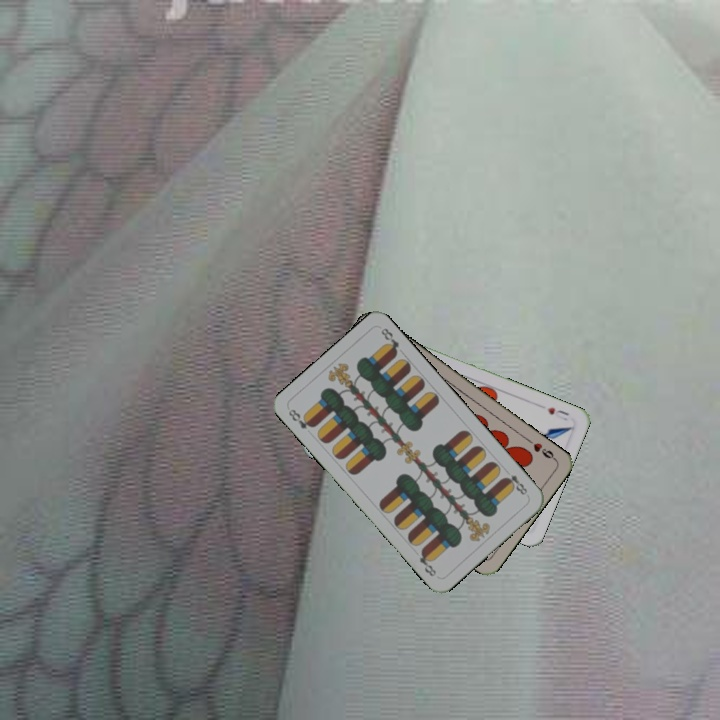E8: (284, 405, 317, 432), (499, 471, 530, 498)
H9: (523, 435, 559, 463)
HU: (543, 403, 572, 423)
